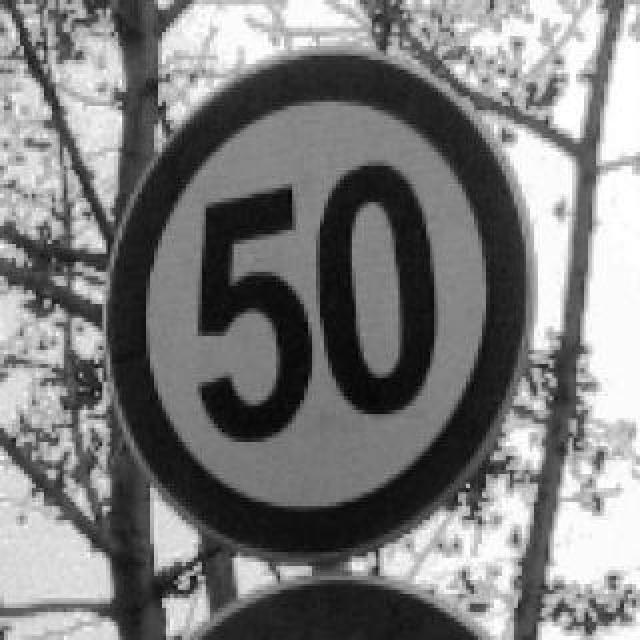50 kph: (100, 46, 538, 562)
